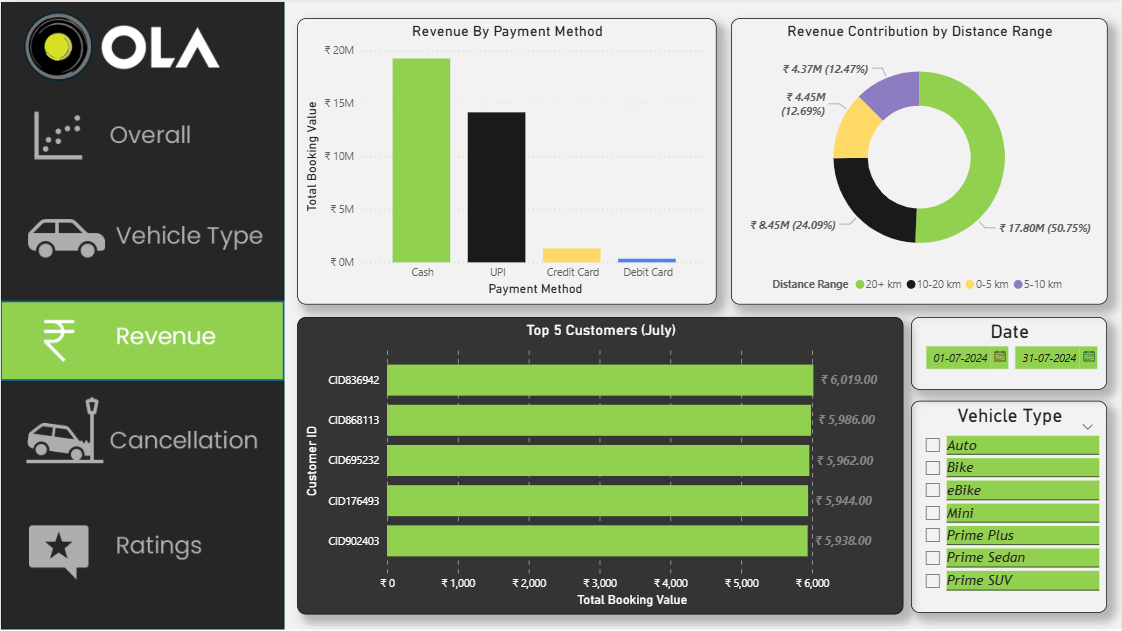

Layout of this report page (visuals, bound fields, positions):
{"tool":"powerbi","page":{"name":"Revenue","canvas":[1280,720],"ordinal":2},"visuals":[{"type":"actionButton","box":[0,345,322.5,88.8],"z":0},{"type":"actionButton","box":[0,112.5,322.5,90],"z":1000},{"type":"actionButton","box":[0,222.5,322.5,88.8],"z":2000},{"type":"actionButton","box":[0,457.5,322.5,88.8],"z":3000},{"type":"actionButton","box":[0,580,322.5,88.8],"z":4000},{"type":"columnChart","title":"Revenue By Payment Method","fields":{"Category":["Ola July Data.Payment_Method"],"Y":["Sum(Ola July Data.Booking_Value)"]},"box":[339,18.1,479,326.9],"z":5000},{"type":"barChart","title":"Top 5 Customers (July)","fields":{"Category":["Ola July Data.Customer_ID"],"Y":["Sum(Ola July Data.Booking_Value)"]},"box":[339,359.5,692.5,340.2],"z":6000},{"type":"donutChart","title":"Revenue Contribution by Distance Range","fields":{"Category":["Ola July Data.Distance Range"],"Y":["Sum(Ola July Data.Booking_Value)"]},"box":[833.7,18.1,430.7,326.9],"z":7000},{"type":"slicer","title":"Date","fields":{"Values":["Ola July Data.Date"]},"box":[1040,359.5,224.4,83.2],"z":8000},{"type":"slicer","title":"Vehicle Type","fields":{"Values":["Ola July Data.Vehicle_Type"]},"box":[1040,456,224.4,242.5],"z":9000}]}

Visuals, with their boxes in screenshot pixels (x1, y1, x2, y2), scaled from the page's 1280x720 canvas onto the 1122x631 screenshot:
actionButton: 0/302/283/380
actionButton: 0/99/283/177
actionButton: 0/195/283/273
actionButton: 0/401/283/479
actionButton: 0/508/283/586
"Revenue By Payment Method" columnChart: 297/16/717/302
"Top 5 Customers (July)" barChart: 297/315/904/613
"Revenue Contribution by Distance Range" donutChart: 731/16/1108/302
"Date" slicer: 912/315/1108/388
"Vehicle Type" slicer: 912/400/1108/612
